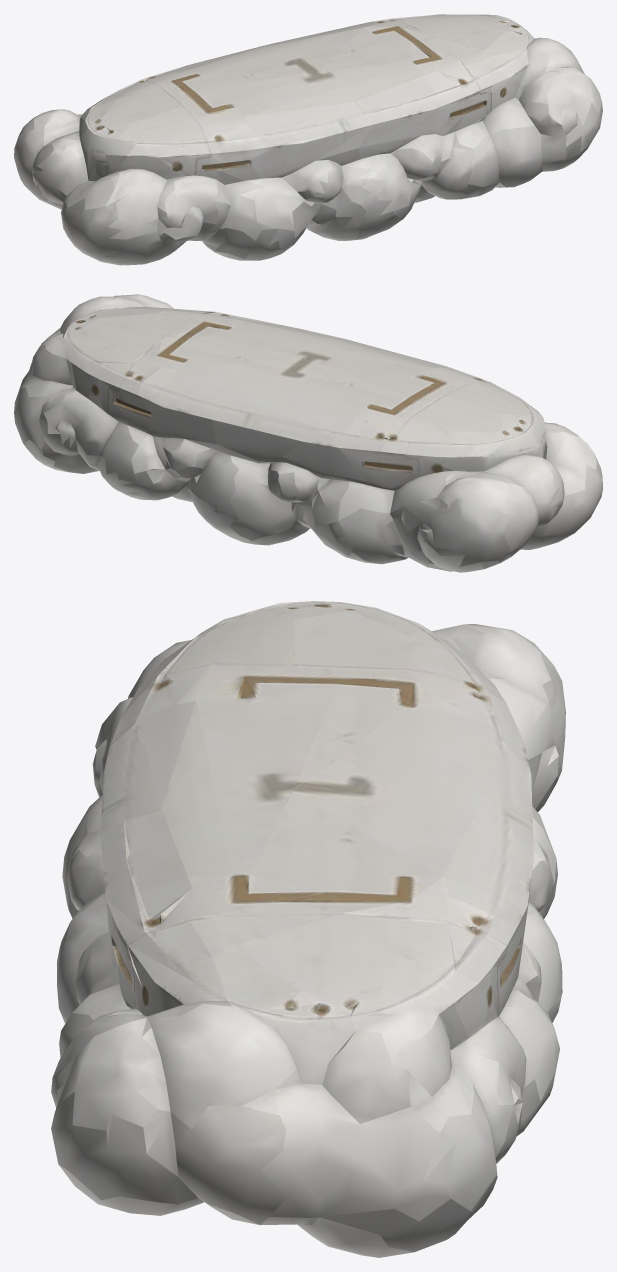
File: landing-platform-cloud.glb
3 renders of one model, top to bottom at view 1: azimuth 30°, elevation 25°; view 2: azimuth 150°, elevation 25°; view 3: azimuth 270°, elevation 25°, orthographic. The views are drawn at different scales.
Visible parts, largest first — view 1: output_unwrapped; view 2: output_unwrapped; view 3: output_unwrapped.
Part boxes in pixels (box(x1,y1,x2,y2)): output_unwrapped: box(14, 14, 602, 265); output_unwrapped: box(14, 294, 602, 572); output_unwrapped: box(51, 601, 565, 1257).
Size of the model in its own units: 1.9 by 0.5297 by 0.8184.
Materials: 1 (1 with a texture image).
